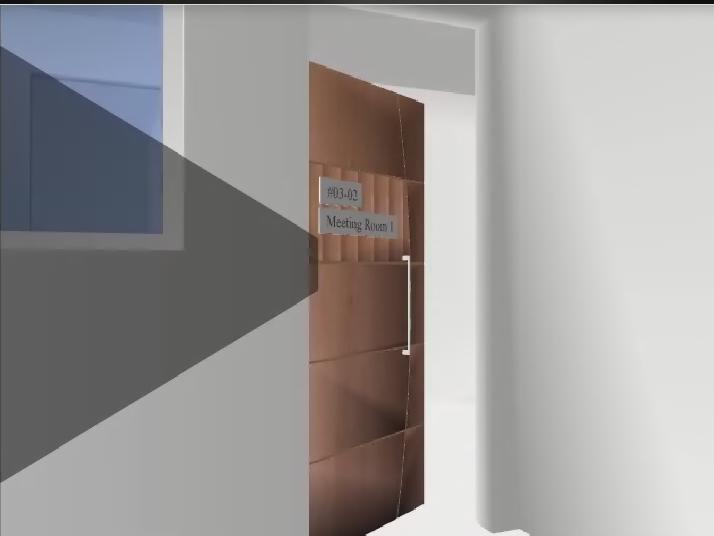door: (310, 62, 424, 536)
